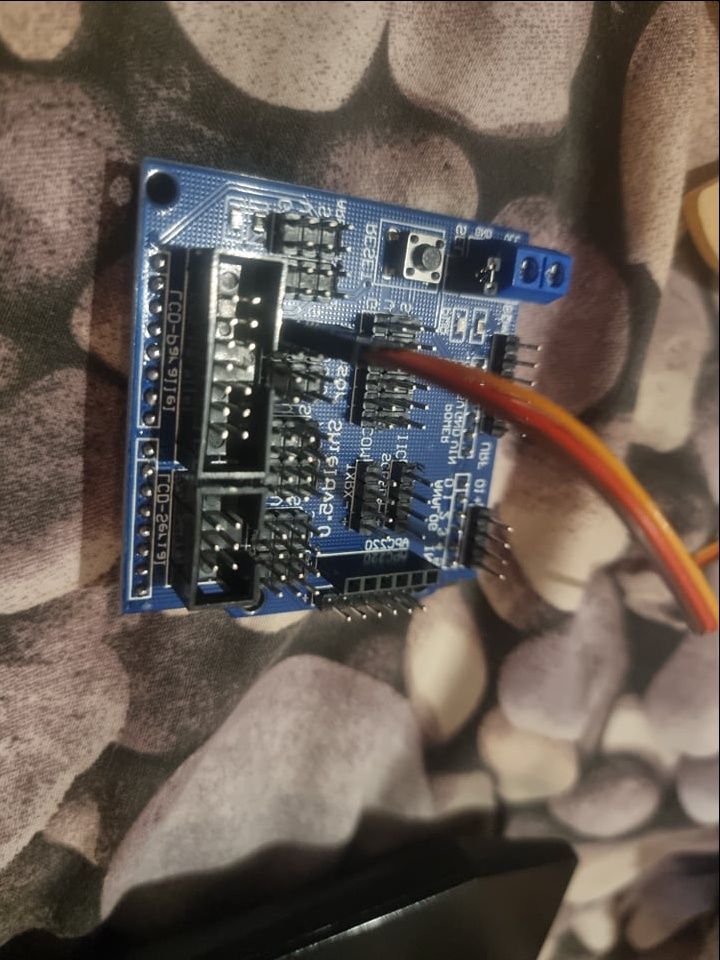5V EXPANSION: (117, 151, 573, 621)
